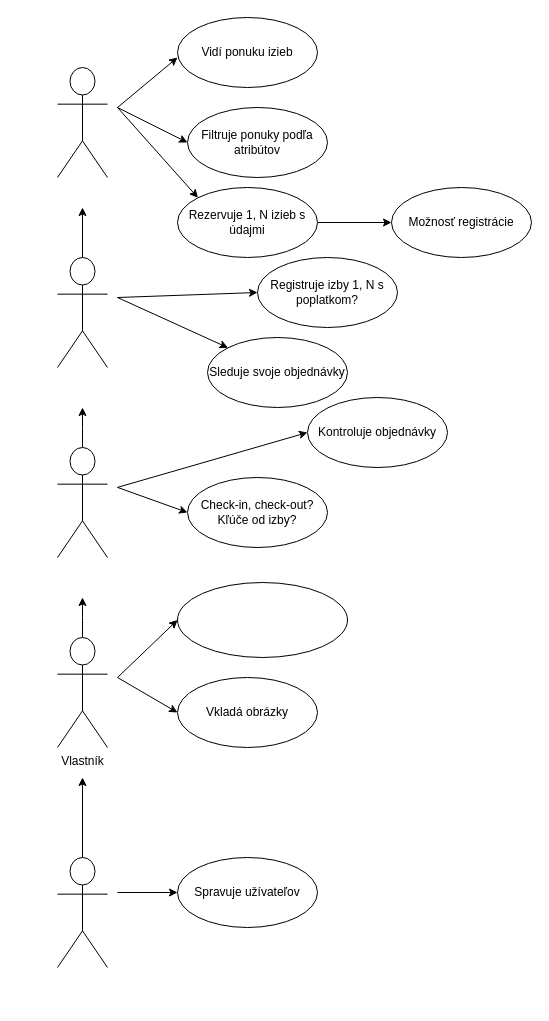
Some shapes in this 549 by 1021 pixel diagram are drawn without their labels. Each missing label, with the box of its shape:
Administrátor: (56, 856, 108, 968)
Neregistrovaný zákazník: (56, 66, 108, 178)
Recepčný: (56, 446, 108, 558)
Vkladá a spravuje hotely / izby: (176, 582, 348, 658)
Zákazník: (56, 256, 108, 368)
